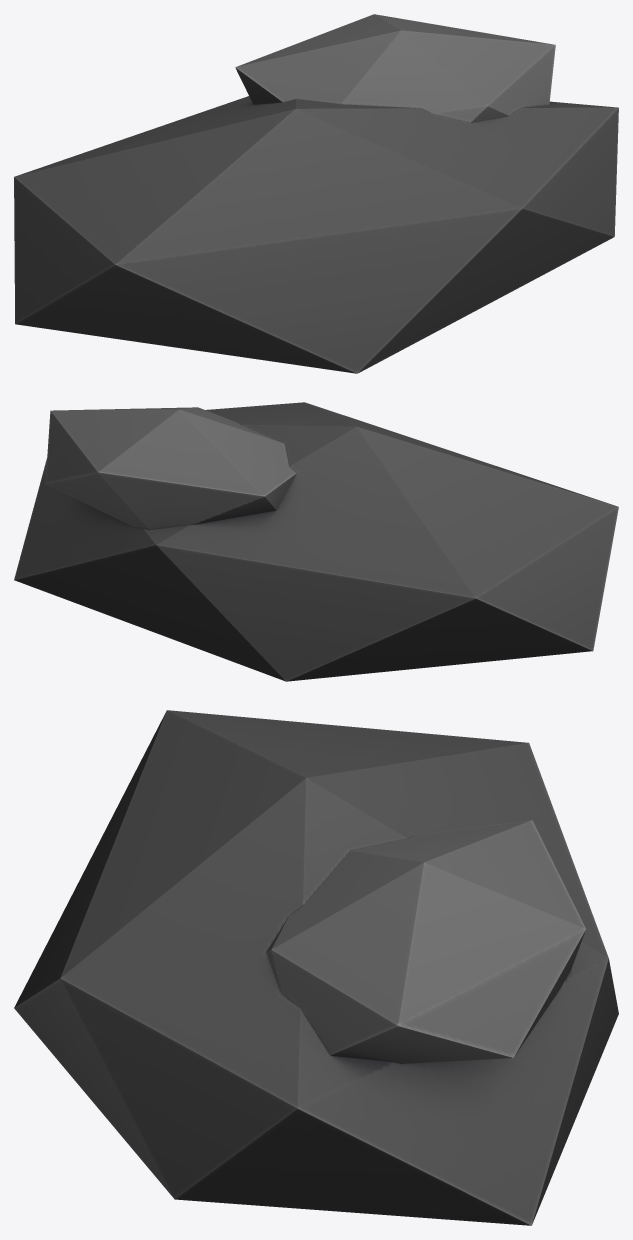
File: decor_dune.glb
The picture shows the model from 3 angles, top to bottom: view 1: azimuth 30°, elevation 25°; view 2: azimuth 150°, elevation 25°; view 3: azimuth 270°, elevation 25°; orthographic projection. The views are drawn at different scales.
Visible parts, largest first — view 1: decor_dune; view 2: decor_dune; view 3: decor_dune.
Part boxes in pixels (left/top/right/bottom): decor_dune: left=14, top=14, right=618, bottom=373; decor_dune: left=14, top=402, right=618, bottom=681; decor_dune: left=14, top=710, right=618, bottom=1225.
Size of the model in its own units: 2.49 by 1.06 by 1.56.
1 material, 1 textured.
